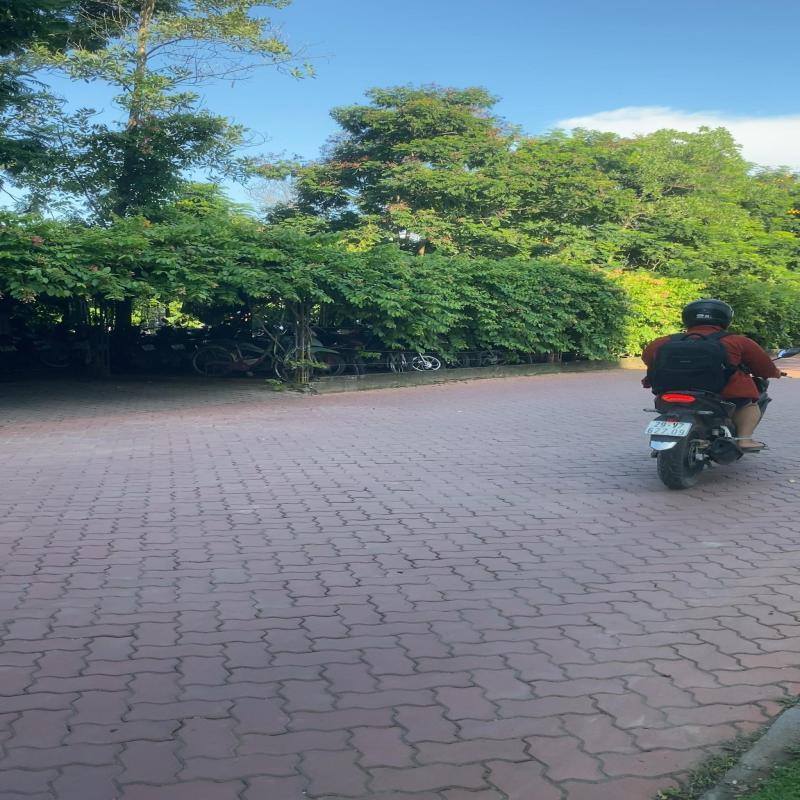helmet: (680, 299, 737, 330)
licenseplate: (644, 420, 694, 438)
motorcyclist: (640, 298, 786, 490)
